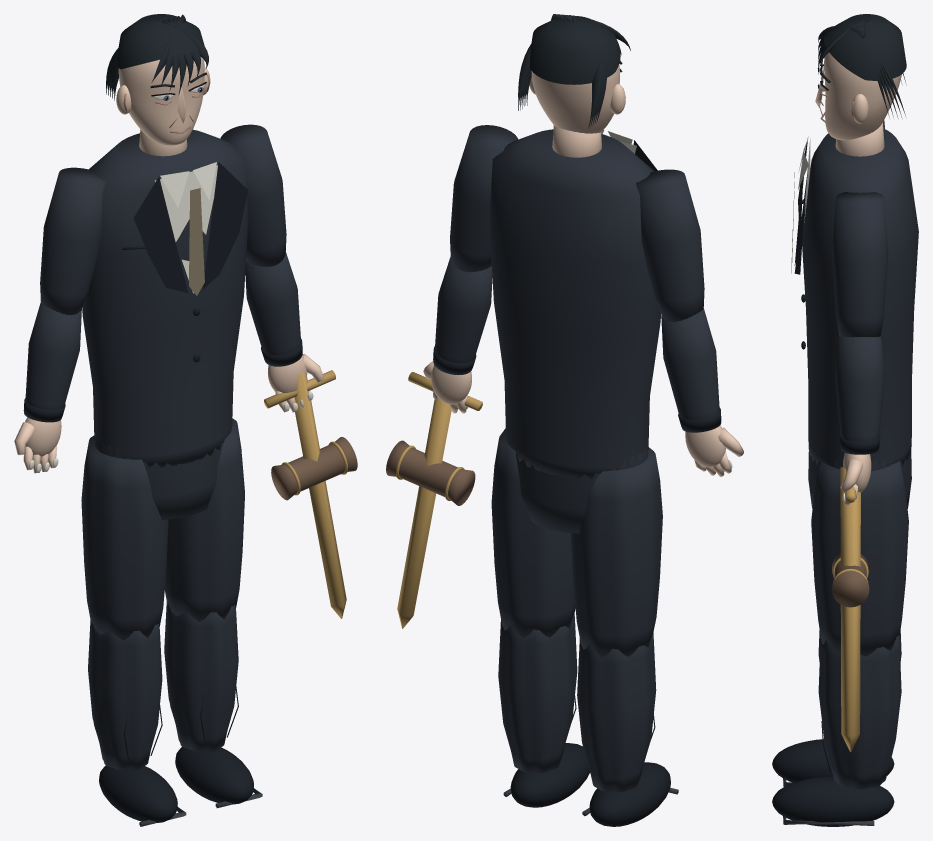
File: higuruma.glb
3 views of the same model, side by side, from view 1: azimuth 30°, elevation 25°; view 2: azimuth 150°, elevation 25°; view 3: azimuth 270°, elevation 25° (orthographic). The views are drawn at different scales.
Parts seen in each view (by area): view 1: tailored torso.012, draped trouser upper leg.020, draped trouser upper leg.021, draped trouser lower leg.021, draped trouser lower leg.020, shaped upper sleeve.016, jacket welt pocket.002, shaped upper sleeve.017, ear.012, brow.028, overlapping elbow.028, overlapping elbow.029 (+10 smaller); view 2: tailored torso.012, draped trouser upper leg.020, draped trouser upper leg.021, draped trouser lower leg.020, draped trouser lower leg.021, shaped upper sleeve.016, brow.028, shaped upper sleeve.017, overlapping elbow.028, overlapping elbow.029, executioner cross guard.002, fitted trouser seat.010 (+7 smaller); view 3: tailored torso.012, draped trouser upper leg.021, draped trouser lower leg.021, shaped upper sleeve.017, brow.028, overlapping elbow.029, ankle gathered cloth crease.042, executioner cross guard.002, ear.012, ankle gathered cloth crease.040, barrel gavel head.002, finger.128 (+6 smaller).
Part boxes in pixels (left/top/right/bottom): tailored torso.012: left=82, top=129, right=248, bottom=467; draped trouser upper leg.020: left=81, top=435, right=168, bottom=640; draped trouser upper leg.021: left=164, top=418, right=244, bottom=621; draped trouser lower leg.021: left=164, top=601, right=238, bottom=751; draped trouser lower leg.020: left=88, top=620, right=162, bottom=770; shaped upper sleeve.016: left=40, top=167, right=106, bottom=315; jacket welt pocket.002: left=122, top=162, right=248, bottom=362; shaped upper sleeve.017: left=220, top=124, right=286, bottom=266; ear.012: left=116, top=57, right=210, bottom=145; brow.028: left=106, top=14, right=208, bottom=100; overlapping elbow.028: left=24, top=302, right=81, bottom=422; overlapping elbow.029: left=245, top=251, right=302, bottom=366; tailored torso.012: left=489, top=129, right=660, bottom=479; draped trouser upper leg.020: left=571, top=447, right=662, bottom=657; draped trouser upper leg.021: left=491, top=428, right=575, bottom=638; draped trouser lower leg.020: left=577, top=632, right=656, bottom=792; draped trouser lower leg.021: left=498, top=613, right=577, bottom=773; shaped upper sleeve.016: left=636, top=169, right=704, bottom=321; brow.028: left=518, top=14, right=630, bottom=128; shaped upper sleeve.017: left=450, top=125, right=518, bottom=272; overlapping elbow.028: left=661, top=308, right=721, bottom=432; overlapping elbow.029: left=433, top=257, right=492, bottom=374; executioner cross guard.002: left=397, top=372, right=482, bottom=628; fitted trouser seat.010: left=506, top=431, right=648, bottom=533; tailored torso.012: left=802, top=128, right=918, bottom=468; draped trouser upper leg.021: left=811, top=460, right=908, bottom=656; draped trouser lower leg.021: left=818, top=635, right=901, bottom=789; shaped upper sleeve.017: left=832, top=192, right=888, bottom=337; brow.028: left=818, top=14, right=906, bottom=118; overlapping elbow.029: left=835, top=336, right=884, bottom=454; ankle gathered cloth crease.042: left=772, top=721, right=894, bottom=826; executioner cross guard.002: left=840, top=466, right=860, bottom=752; ear.012: left=815, top=52, right=901, bottom=140; ankle gathered cloth crease.040: left=772, top=739, right=894, bottom=782; barrel gavel head.002: left=832, top=554, right=869, bottom=607; finger.128: left=840, top=453, right=871, bottom=505.
Bounding box in the file's own units: 0.8373 × 1.84 × 0.312.
